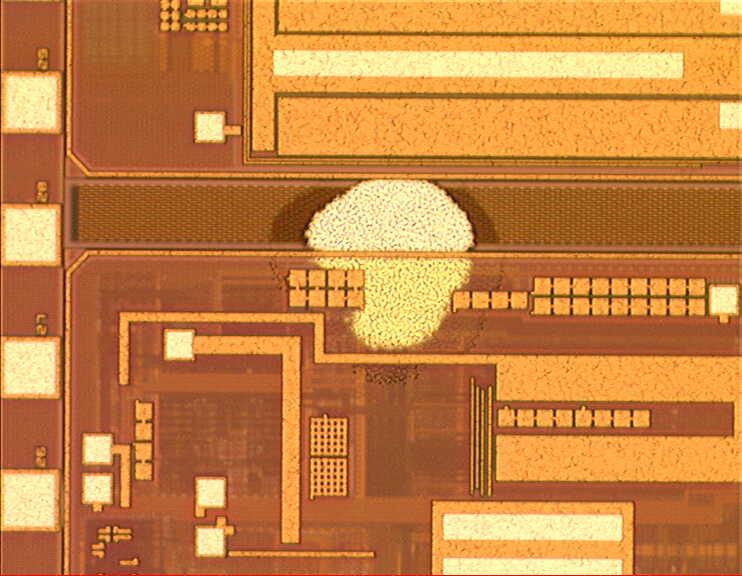BLOCK ETCH: (266, 152, 508, 386)
